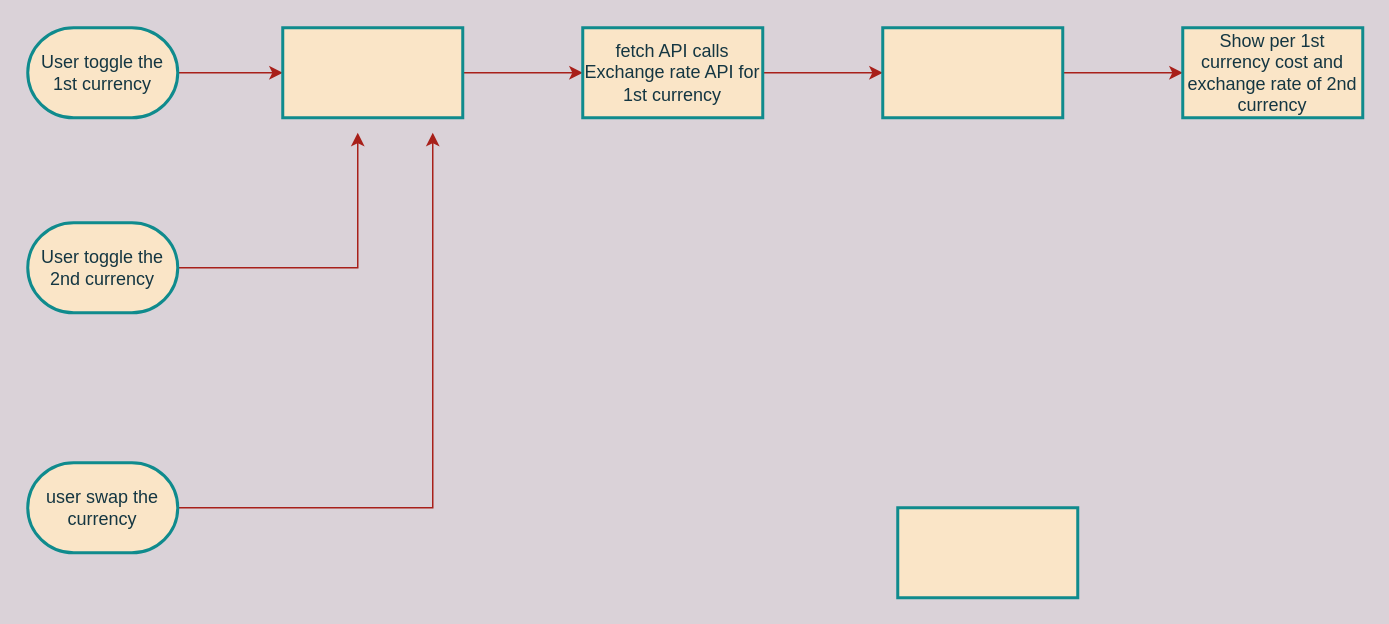
The diagram is 1389 pixels wide and 624 high, and some of its shapes have lost their labels. The shapes that lost their labels are listed below. From the top down, each one's box as (x1, y1, x2, y2) in pixels, then its label:
(280, 26, 464, 118): Rate in the 2nd currency changes according to 1st currency
(880, 26, 1064, 118): Get the exchange rates for 2nd currency according to the 1st currency
(896, 506, 1078, 598): Disply the rate as per the currency changes
